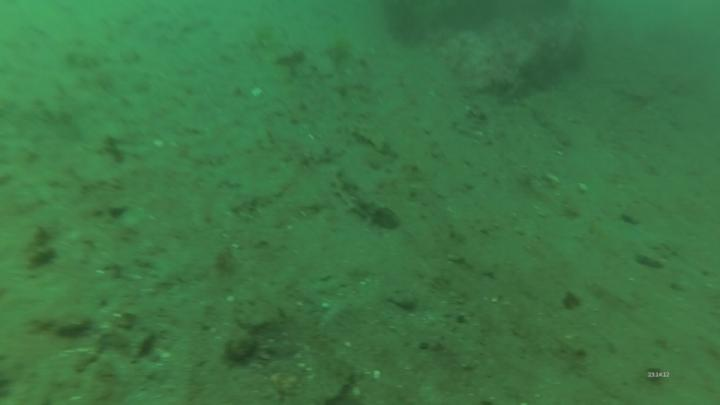holothurian: (331, 166, 403, 233)
